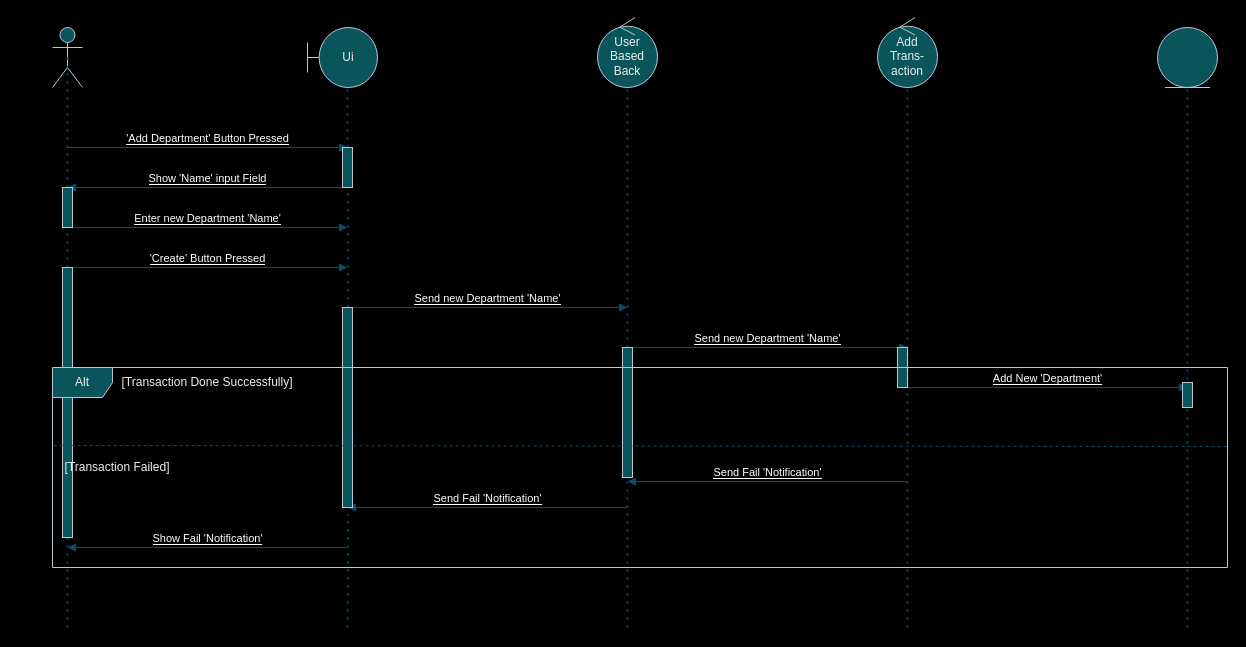
Image size: 1246x647. Some labels were removed from this diagram. The shapes that lost their labels are listed below. From the top down, each one's box as (x1, y1, x2, y2) in pixels, then its label:
(52, 26, 82, 88): Admin
(1156, 26, 1218, 88): Logins DB
